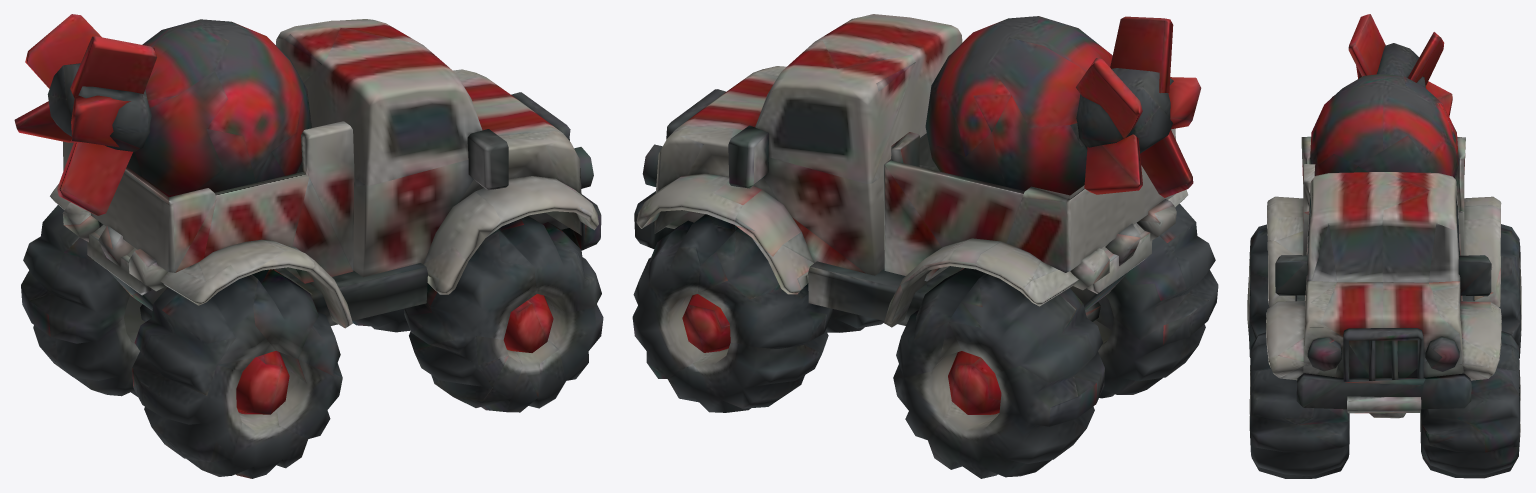
File: bomb_truck.glb
The picture shows the model from 3 angles, left to right: view 1: azimuth 30°, elevation 25°; view 2: azimuth 150°, elevation 25°; view 3: azimuth 270°, elevation 25°; orthographic projection. The views are drawn at different scales.
Parts seen in each view (by area): view 1: hull; view 2: hull; view 3: hull.
Boxes of the visible parts, left/top/right/bottom form: hull: left=14, top=14, right=603, bottom=478; hull: left=632, top=14, right=1218, bottom=478; hull: left=1247, top=14, right=1521, bottom=478.
Bounding box in the file's own units: 1 × 0.8095 × 0.6214.
Materials: 1 (1 with a texture image).
